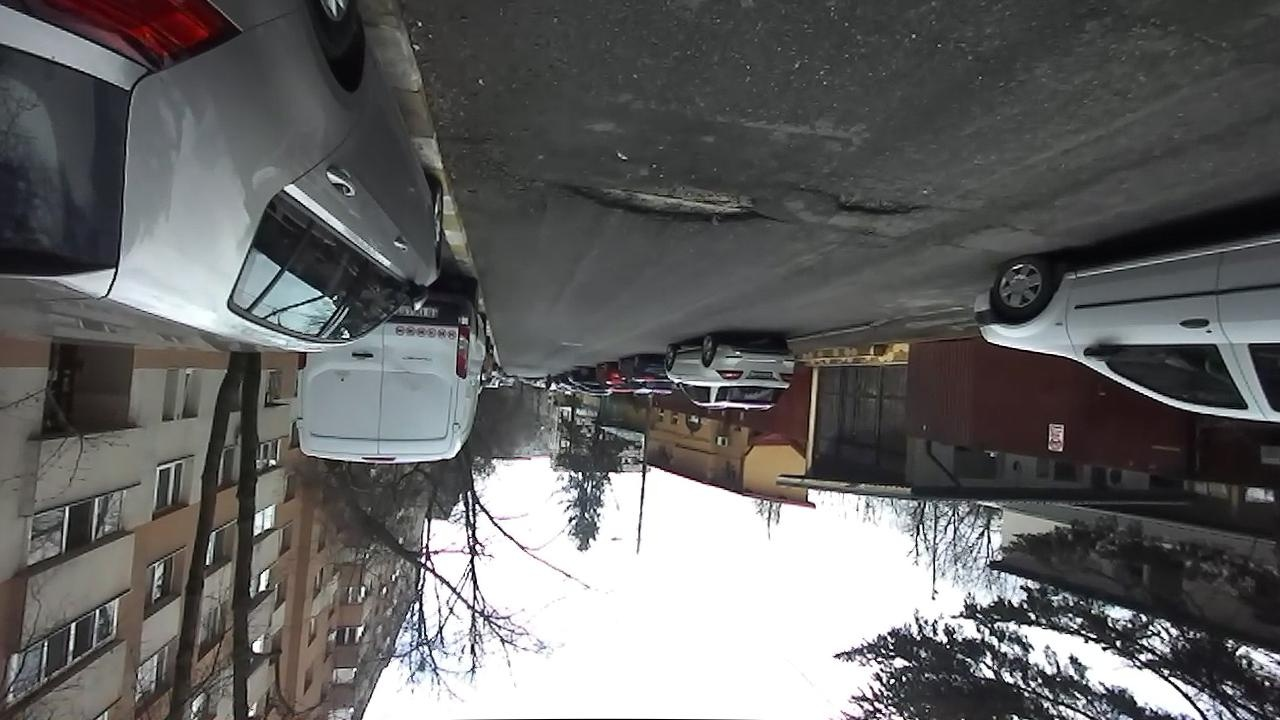pothole: (537, 173, 786, 229), (796, 182, 936, 219)
